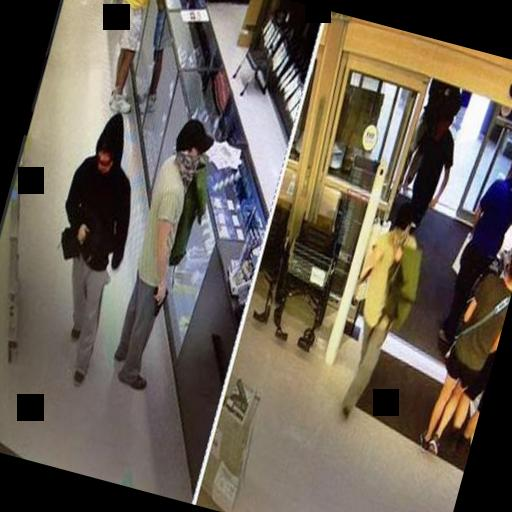Handgun: (146, 280, 166, 314)
